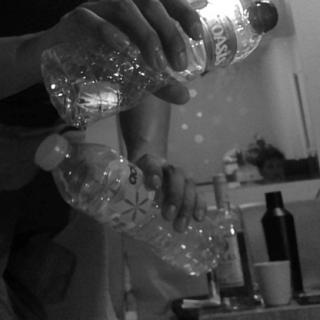plastic_bottles: (39, 0, 278, 127), (34, 132, 226, 278)
